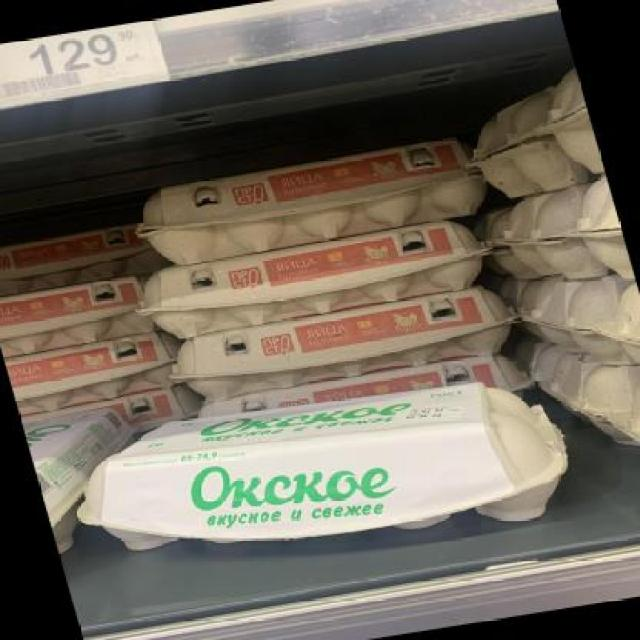Egg: (55, 359, 597, 592), (122, 130, 495, 268), (126, 214, 497, 344), (153, 284, 522, 408), (3, 327, 191, 411), (0, 220, 163, 300), (0, 276, 149, 356)
